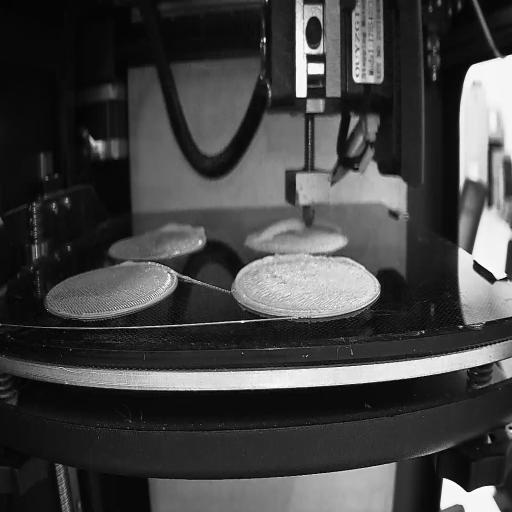over_extrusion: (234, 254, 310, 316), (254, 218, 305, 246), (160, 220, 207, 241), (336, 252, 365, 272), (116, 259, 137, 270)
